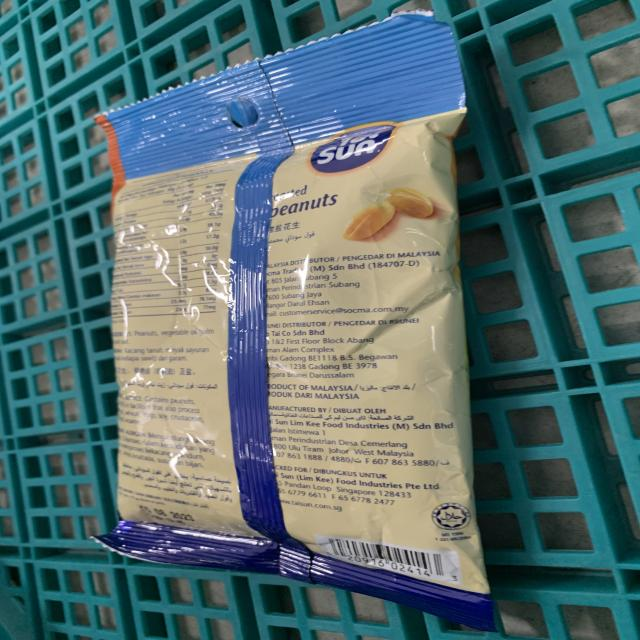object_name: (98, 51, 488, 597)
